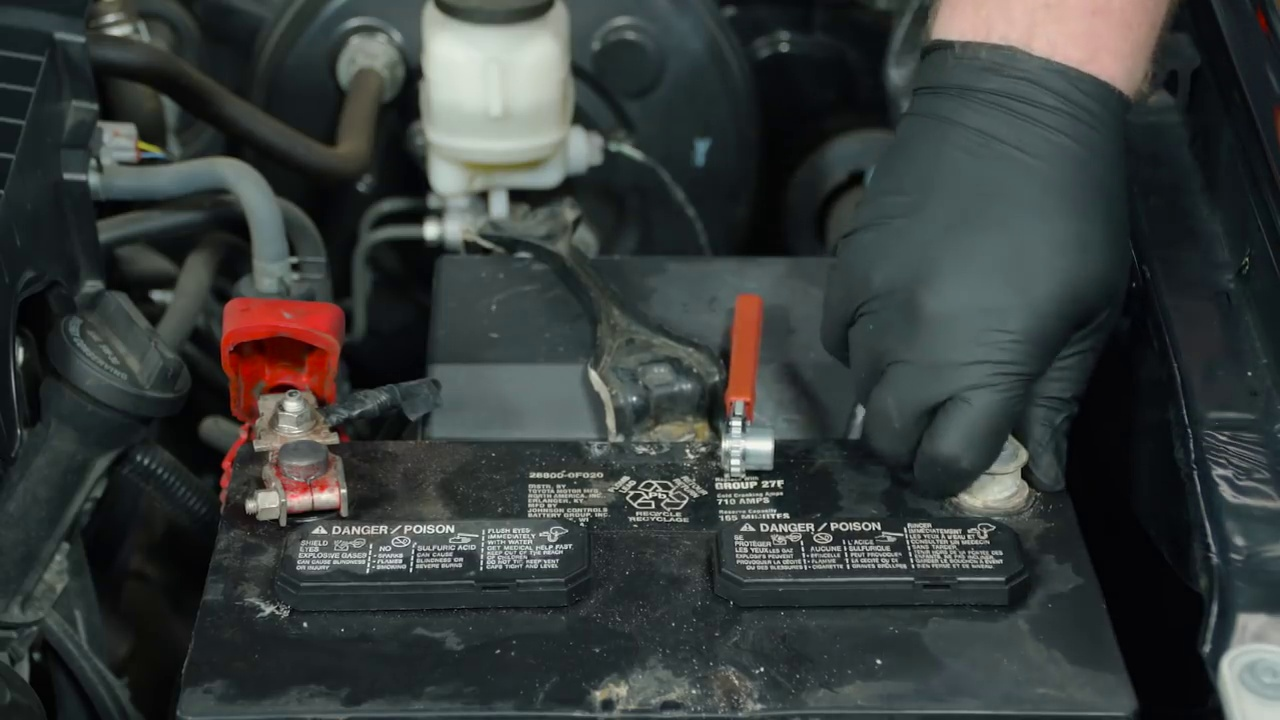battery: (208, 379, 1117, 719)
neg_touched: (822, 290, 1098, 531)
pos_connected: (201, 284, 379, 539)
